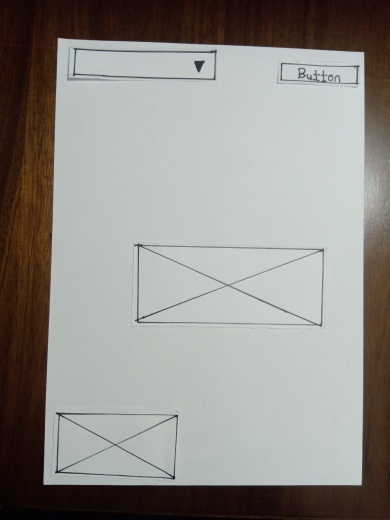button: (278, 62, 363, 87)
dropdown: (72, 50, 219, 79)
img: (134, 245, 321, 331), (55, 409, 180, 480)
